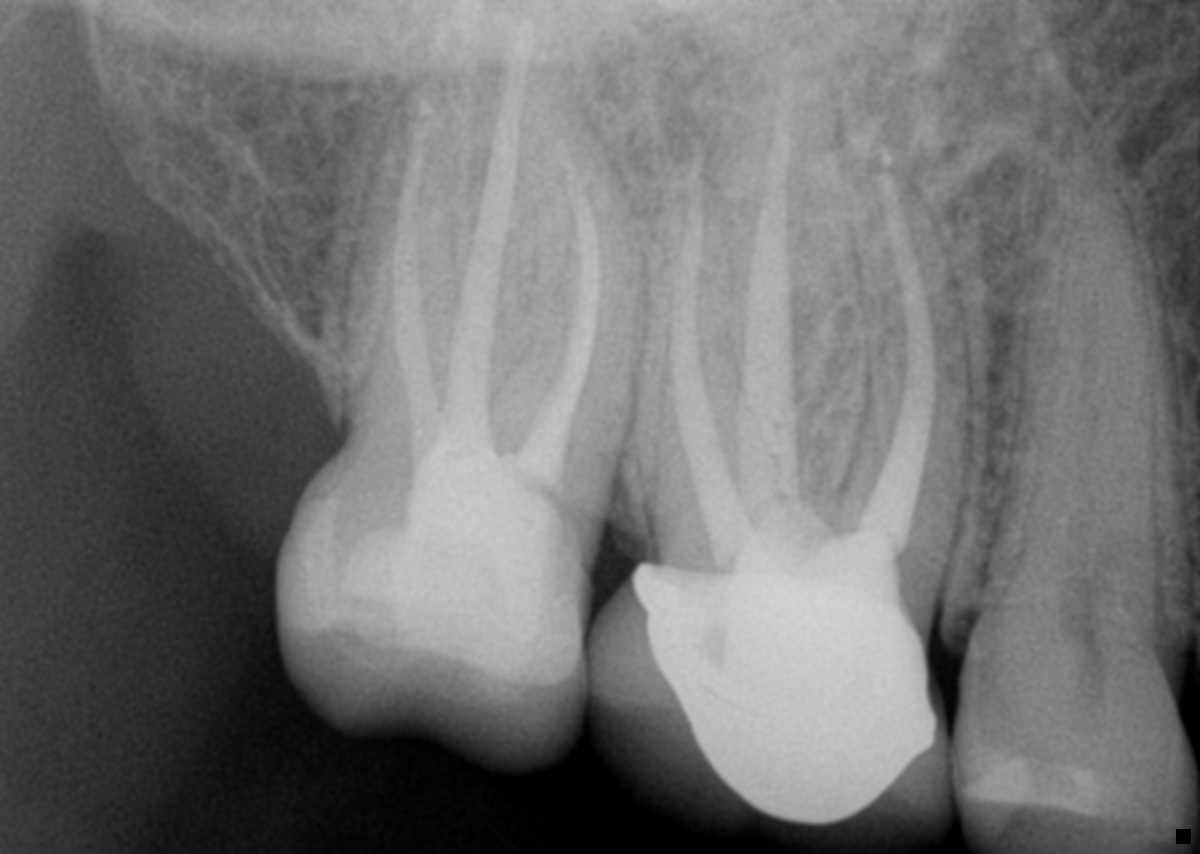Distal Root: (633, 129, 801, 577), (345, 79, 465, 445)
Main Canal: (1057, 290, 1103, 649)
Main Root: (962, 76, 1200, 665)
Mesial Root: (807, 140, 968, 650), (466, 70, 636, 547)
Palatal Root: (709, 40, 861, 583)
Root Canal Filling: (665, 146, 772, 571), (444, 15, 532, 459), (848, 164, 937, 567), (503, 132, 600, 494), (738, 59, 810, 538), (392, 94, 448, 430)
